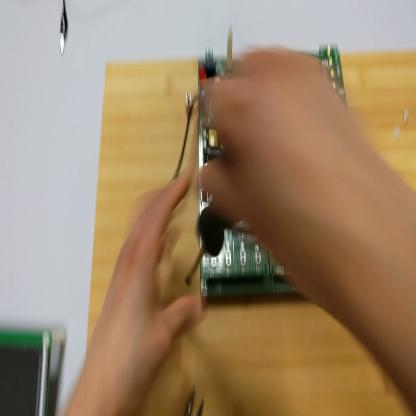hand: (84, 169, 201, 415)
low voltage board: (171, 29, 377, 307)
pliers: (187, 385, 207, 414)
screwdriver-: (187, 203, 236, 286)
working area: (87, 47, 416, 413)
